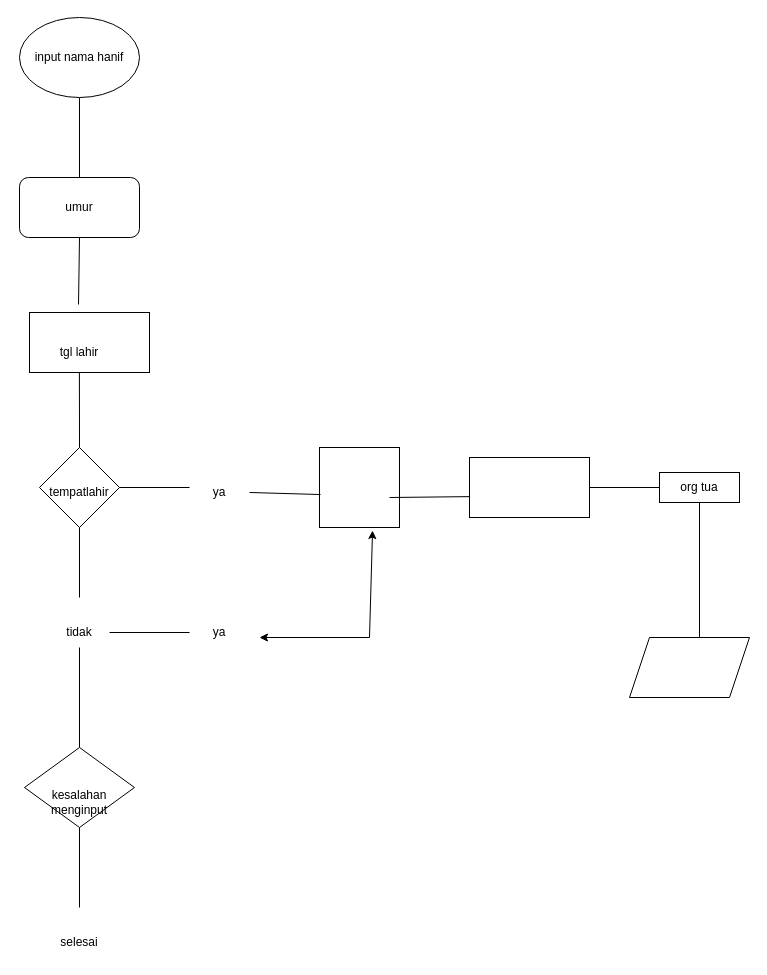
The diagram is 767 pixels wide and 975 high, and some of its shapes have lost their labels. The centre of each missing label's shape, as x and y in pixels:
"asal" goes at [529,487].
"nama ke dua org tua" goes at [689,667].
"tempat tinggal" goes at [359,487].
